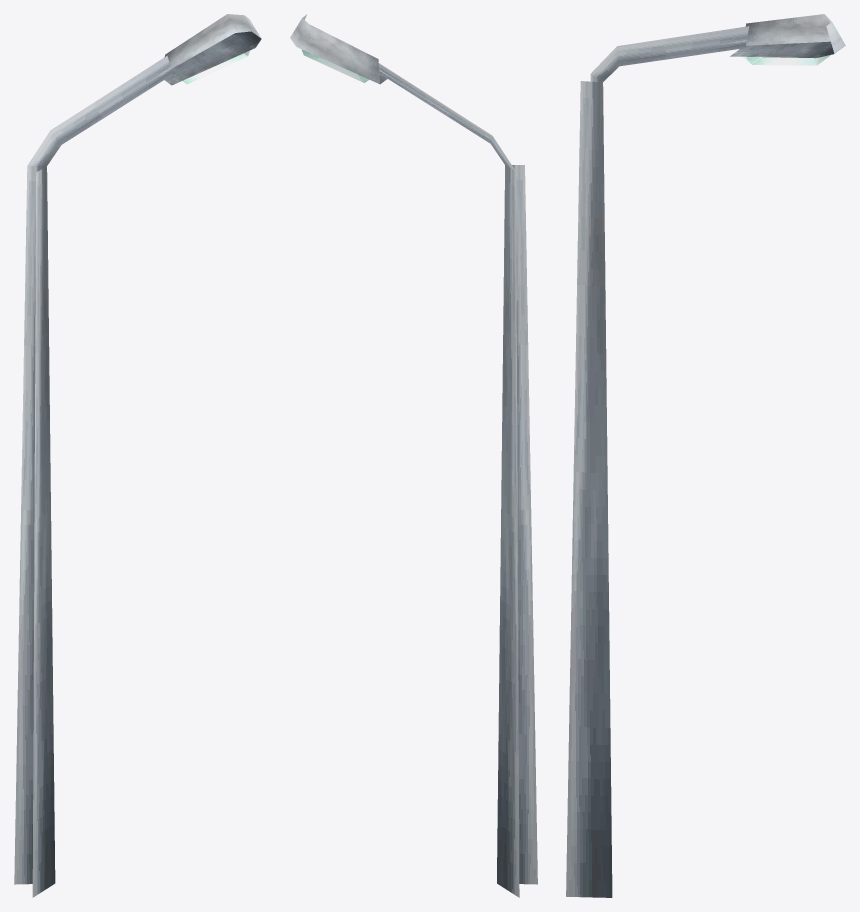
File: stage-metr-p4-740.glb
3 renders of one model, left to right at view 1: azimuth 30°, elevation 25°; view 2: azimuth 150°, elevation 25°; view 3: azimuth 330°, elevation 25°, orthographic. The views are drawn at different scales.
Size of the model in its own units: 4.56 by 15.31 by 0.6898.
Materials: 2 (2 with a texture image).
